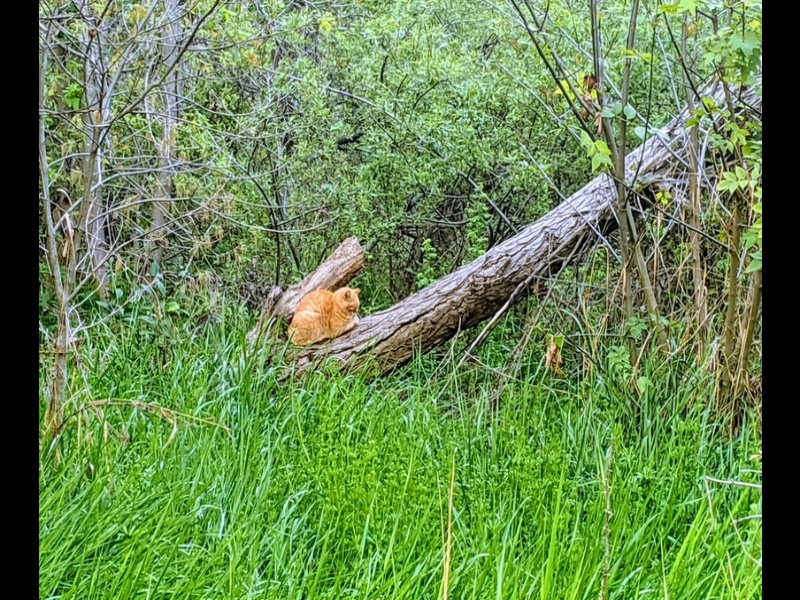cat: (285, 284, 363, 352)
